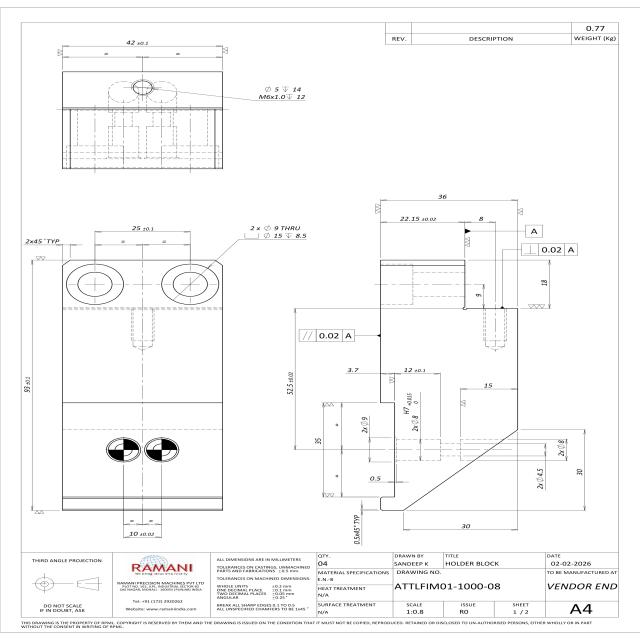dimension: (248, 224, 310, 239), (257, 84, 307, 100), (401, 392, 419, 416), (352, 514, 362, 546), (23, 237, 61, 245), (398, 215, 438, 222), (534, 467, 545, 491), (285, 371, 295, 396), (128, 530, 157, 538), (21, 375, 33, 394), (359, 414, 369, 436), (410, 414, 421, 433), (556, 438, 567, 457), (124, 38, 150, 46), (130, 224, 156, 232), (402, 366, 428, 374), (344, 366, 360, 374), (368, 474, 383, 482), (436, 192, 450, 200), (459, 522, 473, 530), (574, 467, 585, 477), (539, 278, 549, 288), (314, 436, 324, 446), (482, 381, 494, 389), (332, 422, 342, 430), (332, 472, 342, 480), (477, 214, 486, 222), (159, 239, 169, 245), (126, 518, 136, 524), (146, 518, 156, 524), (474, 293, 484, 298), (175, 51, 183, 57), (119, 239, 127, 245), (103, 51, 110, 57)
